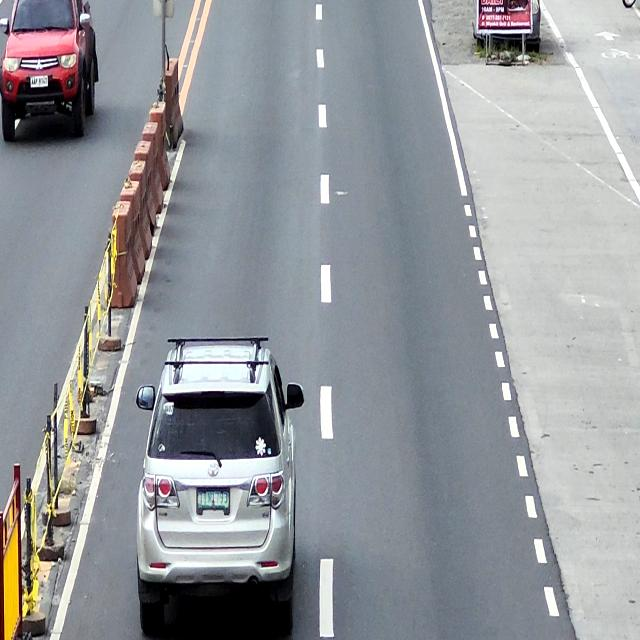Car: (135, 334, 304, 640), (0, 0, 99, 138)
License-Plate: (195, 488, 230, 508), (29, 75, 49, 88)
